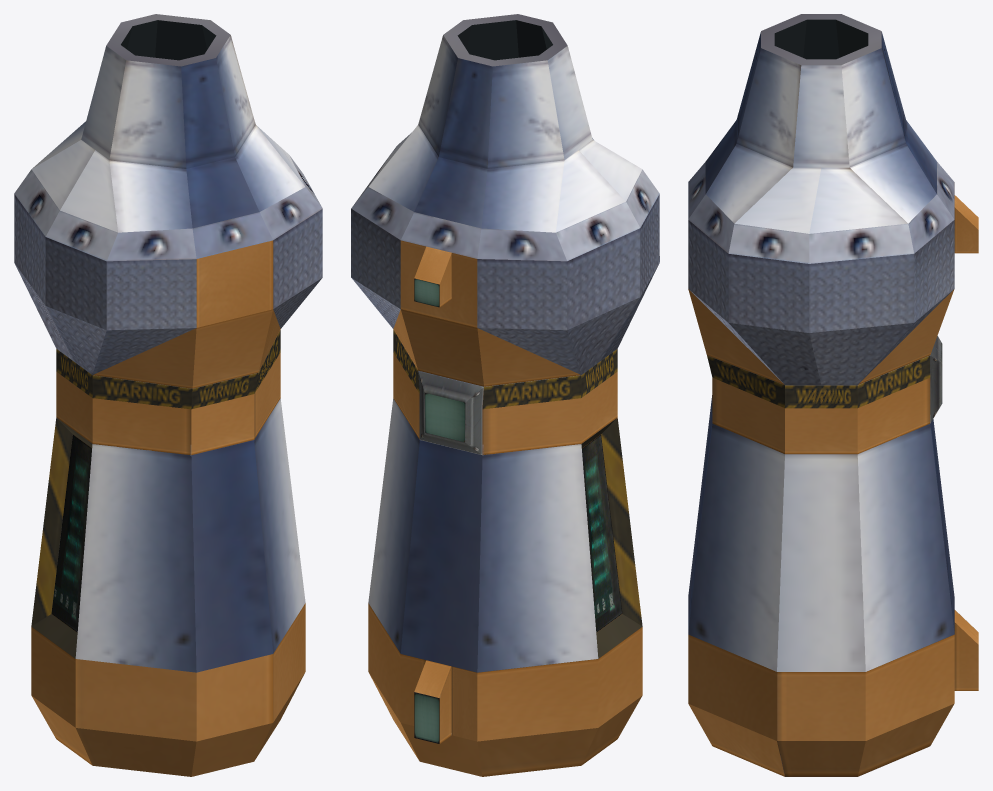
Rendered from ArmCannon.fbx.
3 views of the same model, side by side, from view 1: azimuth 30°, elevation 25°; view 2: azimuth 150°, elevation 25°; view 3: azimuth 270°, elevation 25° (orthographic).
Visible parts, largest first — view 1: ArmCannon; view 2: ArmCannon; view 3: ArmCannon.
Part boxes in pixels (x1=…): ArmCannon: x1=14, y1=14, x2=322, y2=776; ArmCannon: x1=351, y1=14, x2=659, y2=776; ArmCannon: x1=688, y1=14, x2=978, y2=776.
Size of the model in its own units: 74 by 189 by 72.
